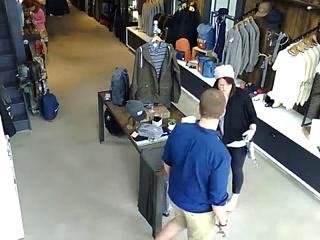Normal: (155, 88, 233, 240), (213, 65, 257, 216)
